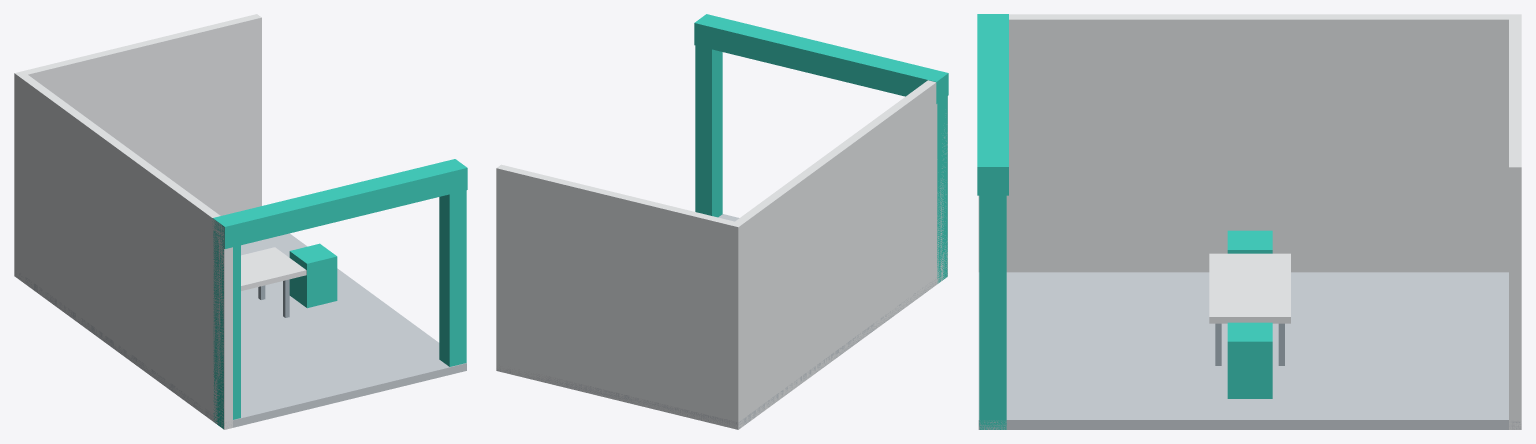
3 renders of one model, left to right at view 1: azimuth 30°, elevation 25°; view 2: azimuth 150°, elevation 25°; view 3: azimuth 270°, elevation 25°, orthographic. The views are drawn at different scales.
Visible parts, largest first — view 1: Exhibition Booth Concept; view 2: Exhibition Booth Concept; view 3: Exhibition Booth Concept.
Boxes of the visible parts, box(x1,y1,x2,y2) form: Exhibition Booth Concept: box(14, 14, 467, 429); Exhibition Booth Concept: box(496, 14, 948, 429); Exhibition Booth Concept: box(977, 14, 1521, 429).
Bounding box in the file's own units: 4 × 3.2 × 6.02.
